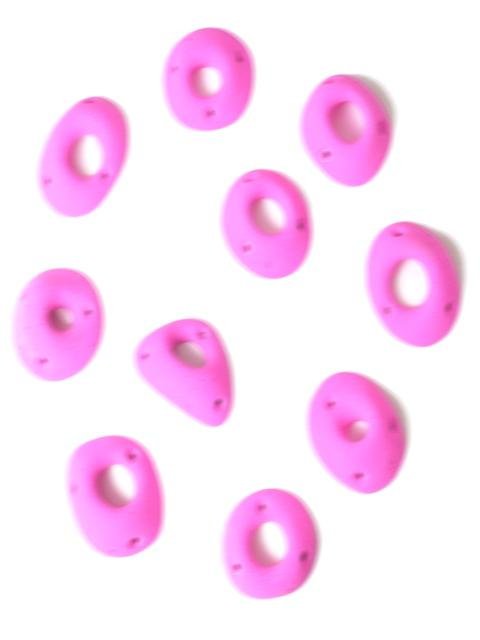pocket: (307, 371, 405, 493), (366, 221, 460, 346), (67, 435, 162, 556), (38, 96, 128, 215), (134, 318, 232, 426), (222, 488, 316, 598), (300, 74, 391, 186), (13, 268, 103, 380), (222, 169, 311, 278), (163, 27, 253, 130)
